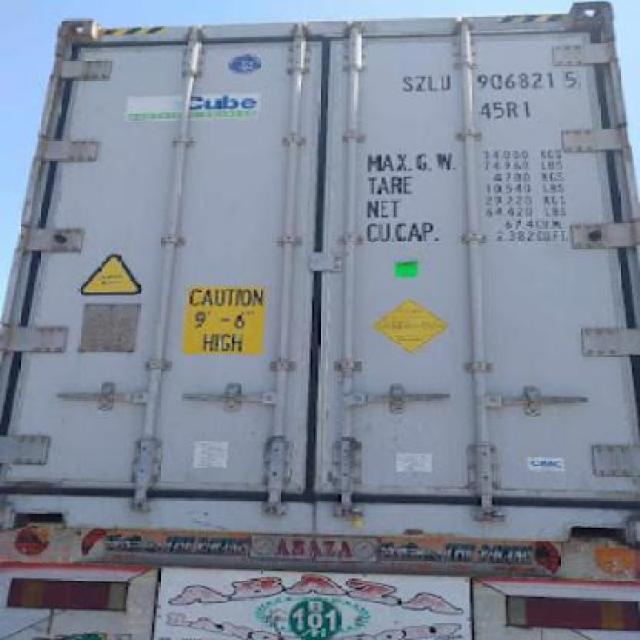ISO: (482, 96, 534, 120)
container_number: (400, 70, 574, 90)
